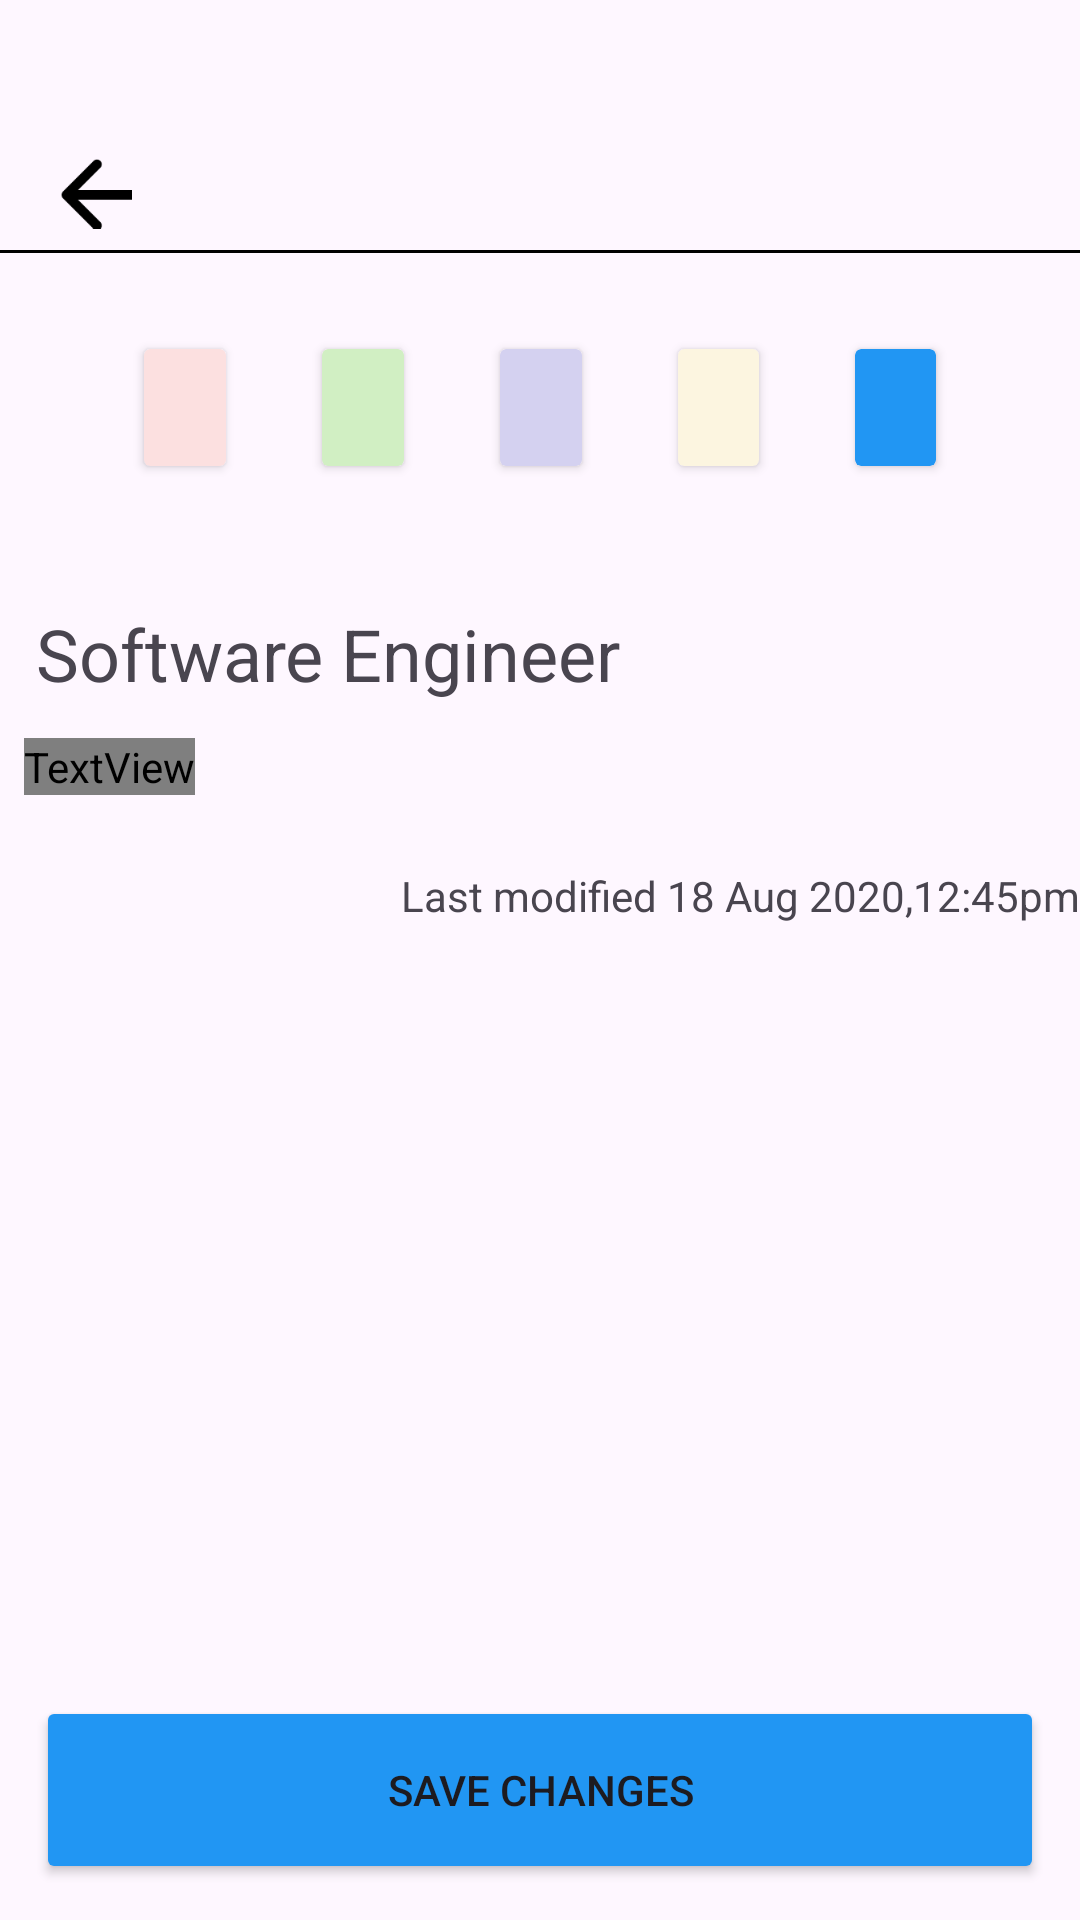

Named icons in this screenshot (1080w x 1920h) and their centers, [x,y]:
arrow: [96,194]
